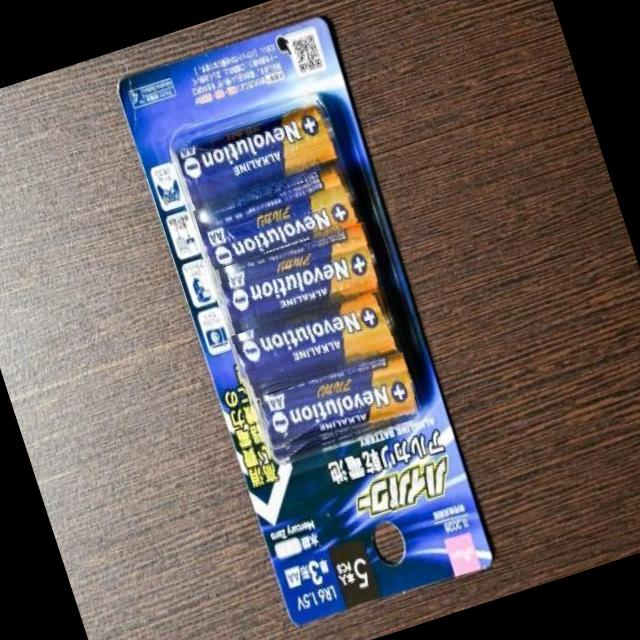Hazard: (209, 220, 385, 338), (226, 286, 404, 400), (253, 350, 422, 463), (192, 159, 364, 270), (172, 98, 342, 210)
